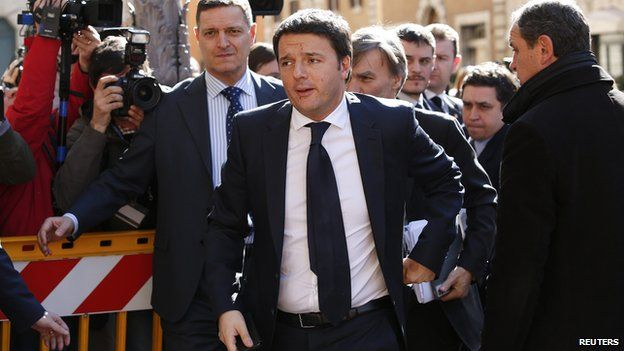face: (270, 8, 345, 118), (190, 0, 260, 80), (507, 16, 568, 88), (347, 37, 396, 98), (396, 24, 433, 95), (461, 78, 500, 139), (432, 30, 457, 89)
